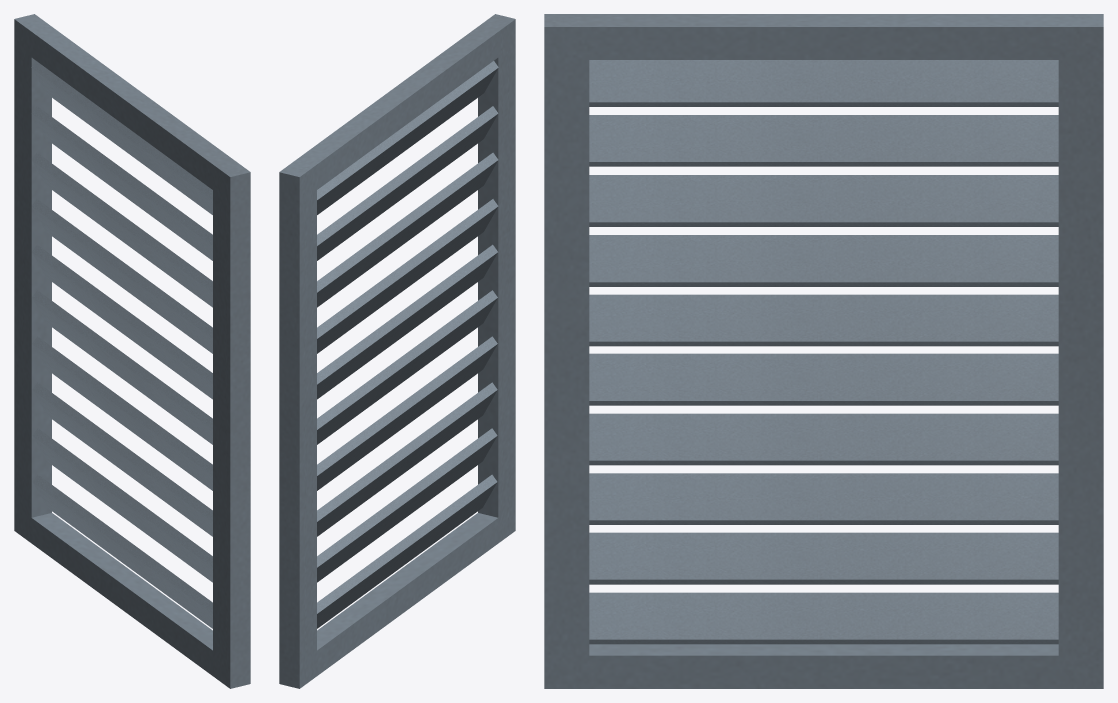
The model's file is vent.fbx.
3 renders of one model, left to right at view 1: azimuth 30°, elevation 25°; view 2: azimuth 150°, elevation 25°; view 3: azimuth 270°, elevation 25°, orthographic. The views are drawn at different scales.
Visible parts, largest first — view 1: vent; view 2: vent; view 3: vent.
Part boxes in pixels (x1=…): vent: x1=14, y1=14, x2=250, y2=688; vent: x1=279, y1=14, x2=515, y2=688; vent: x1=544, y1=14, x2=1103, y2=688.
Bounding box in the file's own units: 10.03 × 230 × 176.
Materials: 1 (1 with a texture image).
